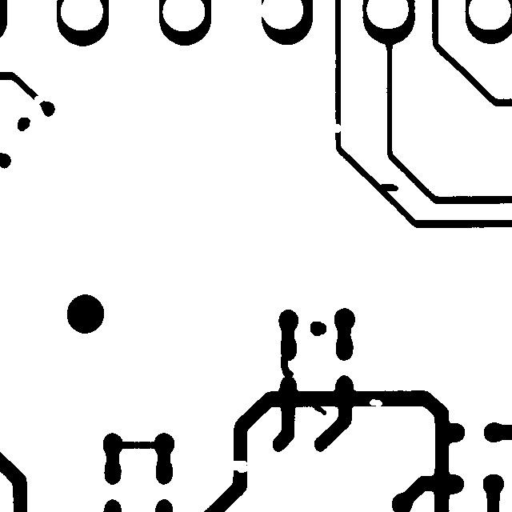copper: (302, 314, 334, 343), (10, 110, 38, 138)
mousebite: (362, 391, 390, 414)
open: (219, 453, 256, 480), (20, 87, 53, 114), (322, 116, 349, 140)
short: (108, 434, 168, 456), (273, 346, 301, 386)
spur: (372, 176, 406, 199), (304, 396, 334, 422)
